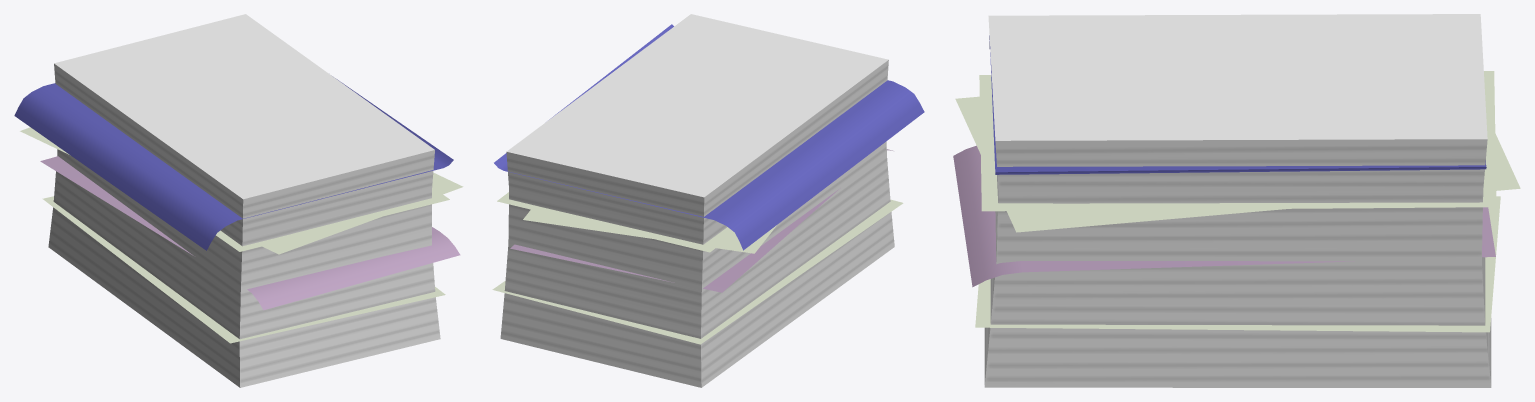
The model's file is PaperPile.fbx.
3 views of the same model, side by side, from view 1: azimuth 30°, elevation 25°; view 2: azimuth 150°, elevation 25°; view 3: azimuth 270°, elevation 25° (orthographic). The views are drawn at different scales.
Parts seen in each view (by area): view 1: PaperPile; view 2: PaperPile; view 3: PaperPile.
Part boxes in pixels (box(x1,y1,x2,y2)): PaperPile: box(14, 14, 463, 387); PaperPile: box(492, 14, 924, 387); PaperPile: box(953, 14, 1520, 387).
Size of the model in its own units: 33.89 by 21.9 by 45.8.
